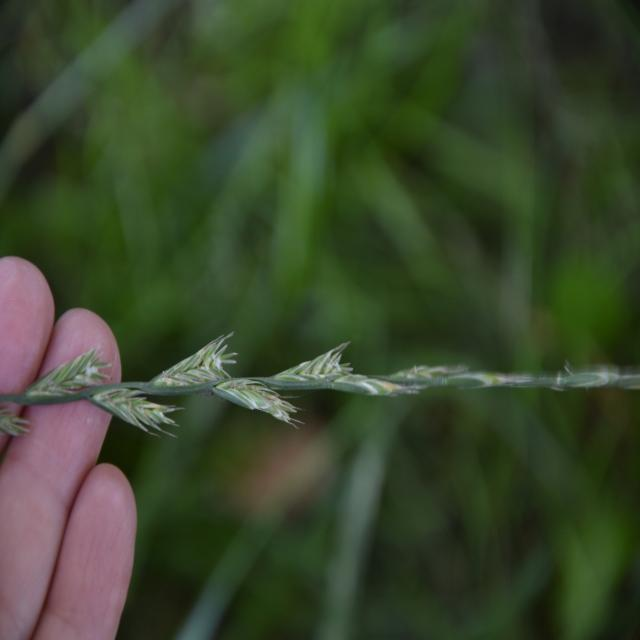Lolium: (1, 327, 638, 448)
